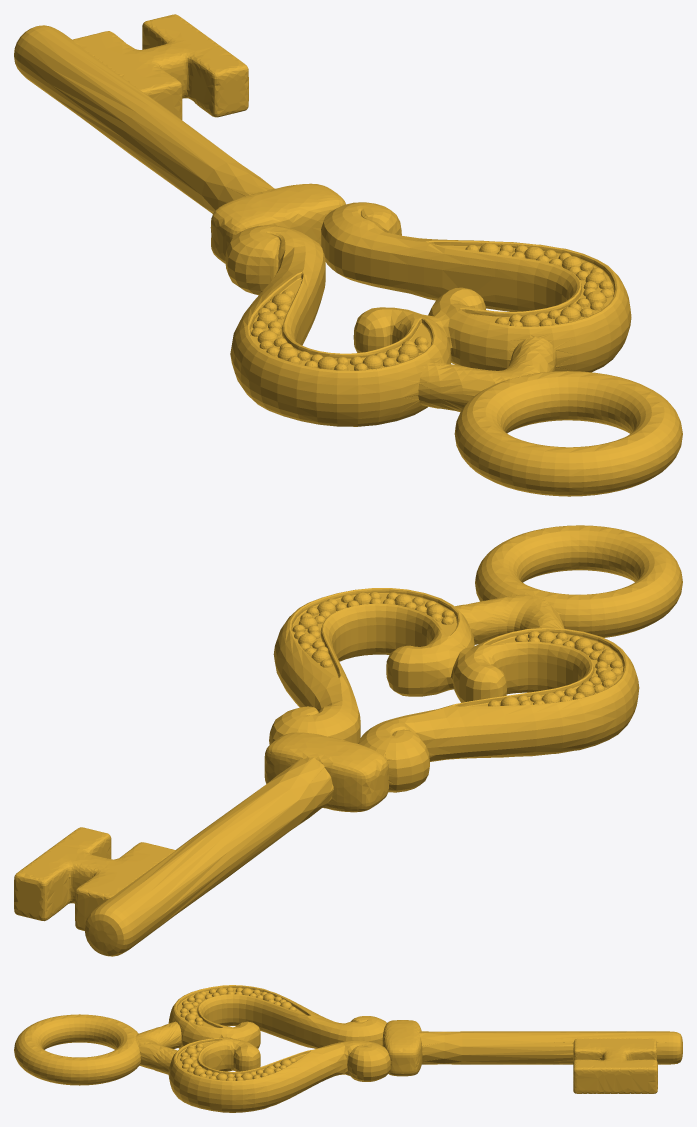
Rendered from bucoKey.obj.
3 views of the same model, one above another, from view 1: azimuth 30°, elevation 25°; view 2: azimuth 150°, elevation 25°; view 3: azimuth 270°, elevation 25° (orthographic). The views are drawn at different scales.
Parts seen in each view (by area): view 1: obj_0; view 2: obj_0; view 3: obj_0.
Boxes of the visible parts, <box> form: obj_0: <box>14,14,682,496</box>; obj_0: <box>14,525,682,956</box>; obj_0: <box>14,985,682,1112</box>.
Bounding box in the file's own units: 1.66 × 0.266 × 4.58.
